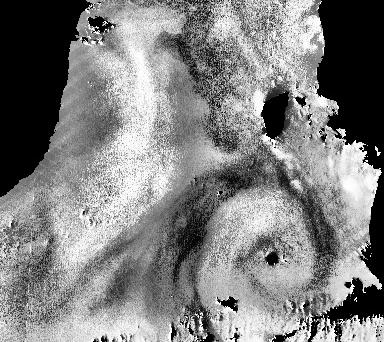AE: (184, 158, 339, 320)
